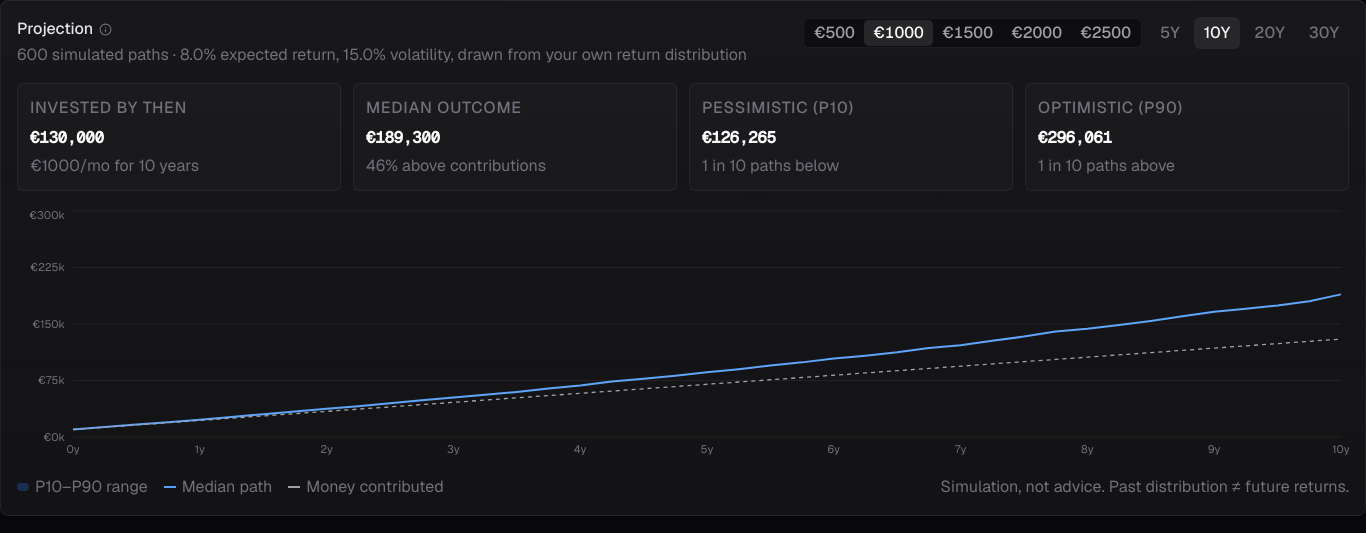
it: Projection › recomputes when a different monthly contribution is picked
This screenshot has width=1366, height=533.
Click the button "€2500" at (1105, 33), box [1072, 21, 1139, 45]
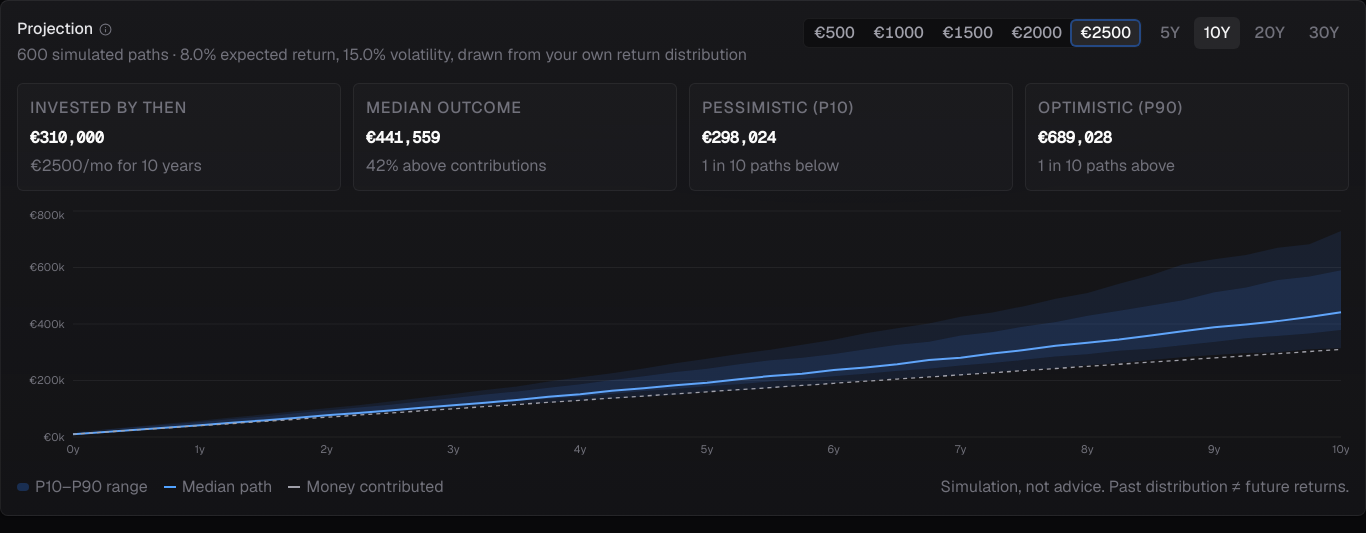
Check: the text "€2500/mo for 10 years" is shown, box [30, 155, 202, 176]
